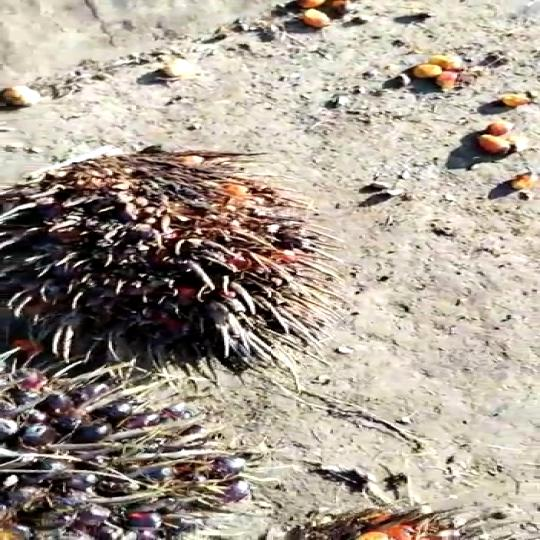terlalu masak: (0, 136, 335, 376)
